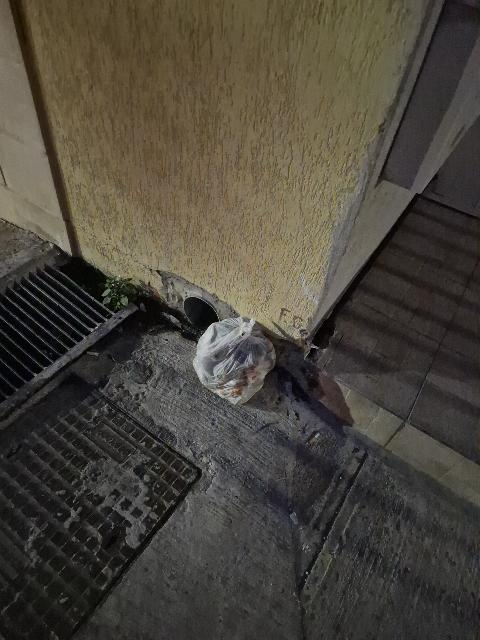Organic -White-: (193, 316, 276, 405)
